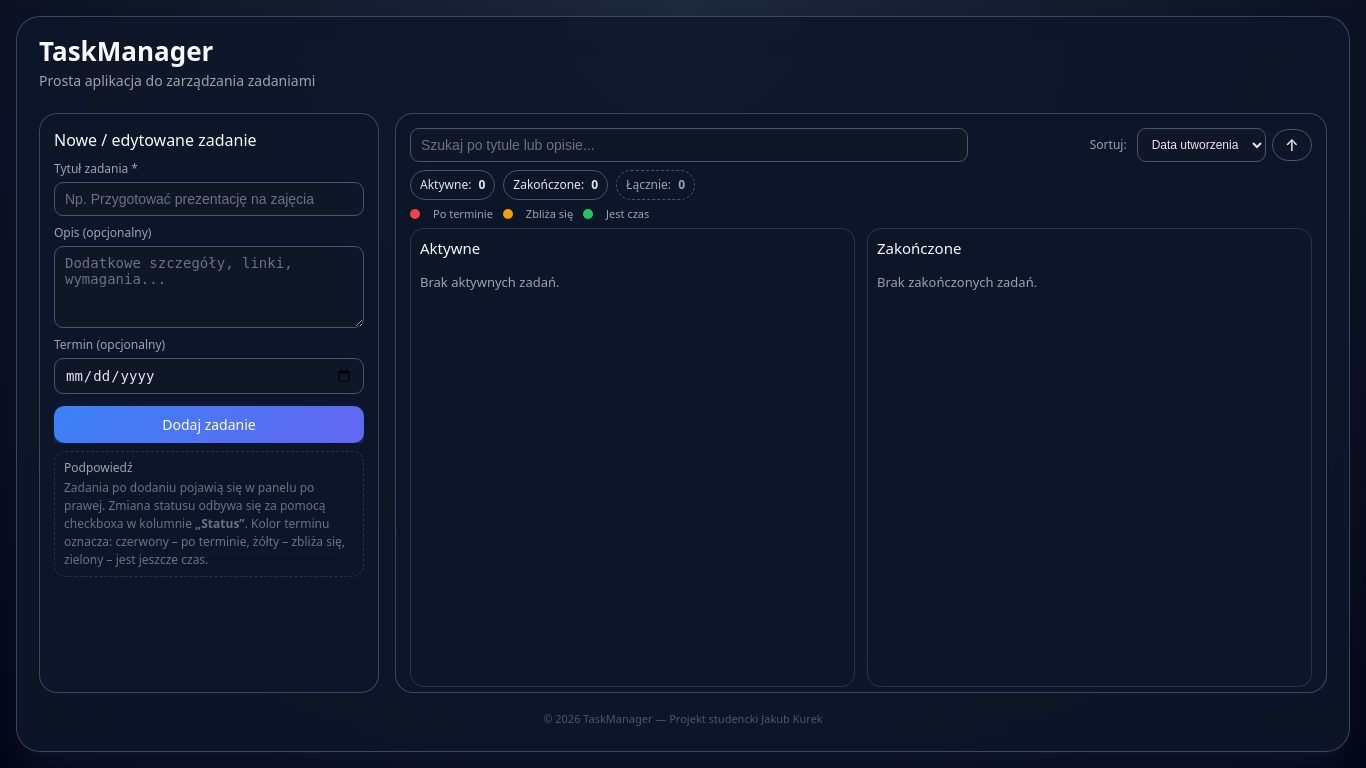
Scenario: Integration Tests: App Component › should remove task when delete button is clicked
Type "Do usunięcia" into the field with placeholder "Np. Przygotować prezentację na zajęcia" at {"x": 209, "y": 199}, box top-left (54, 182), bottom-right (364, 216)
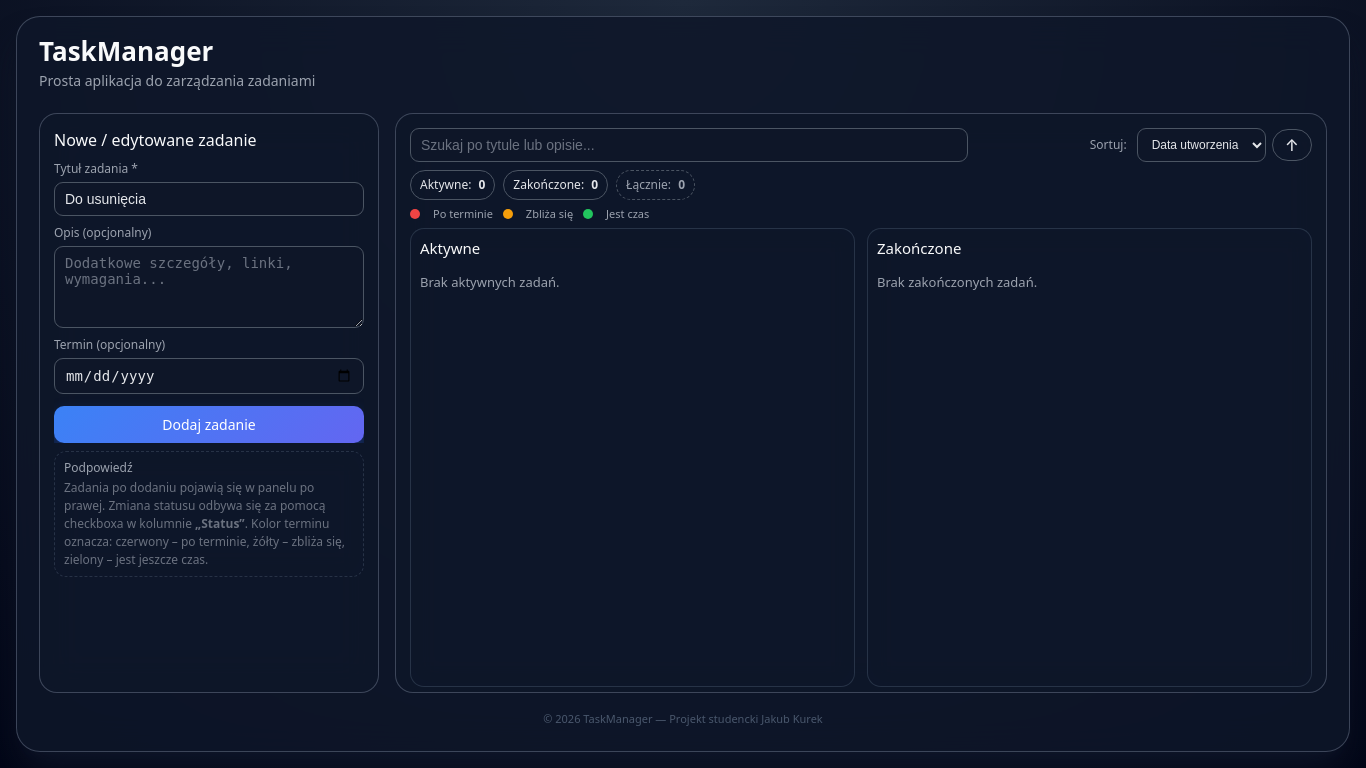
Click the button "Dodaj zadanie" at {"x": 209, "y": 424}, box top-left (54, 406), bottom-right (364, 443)
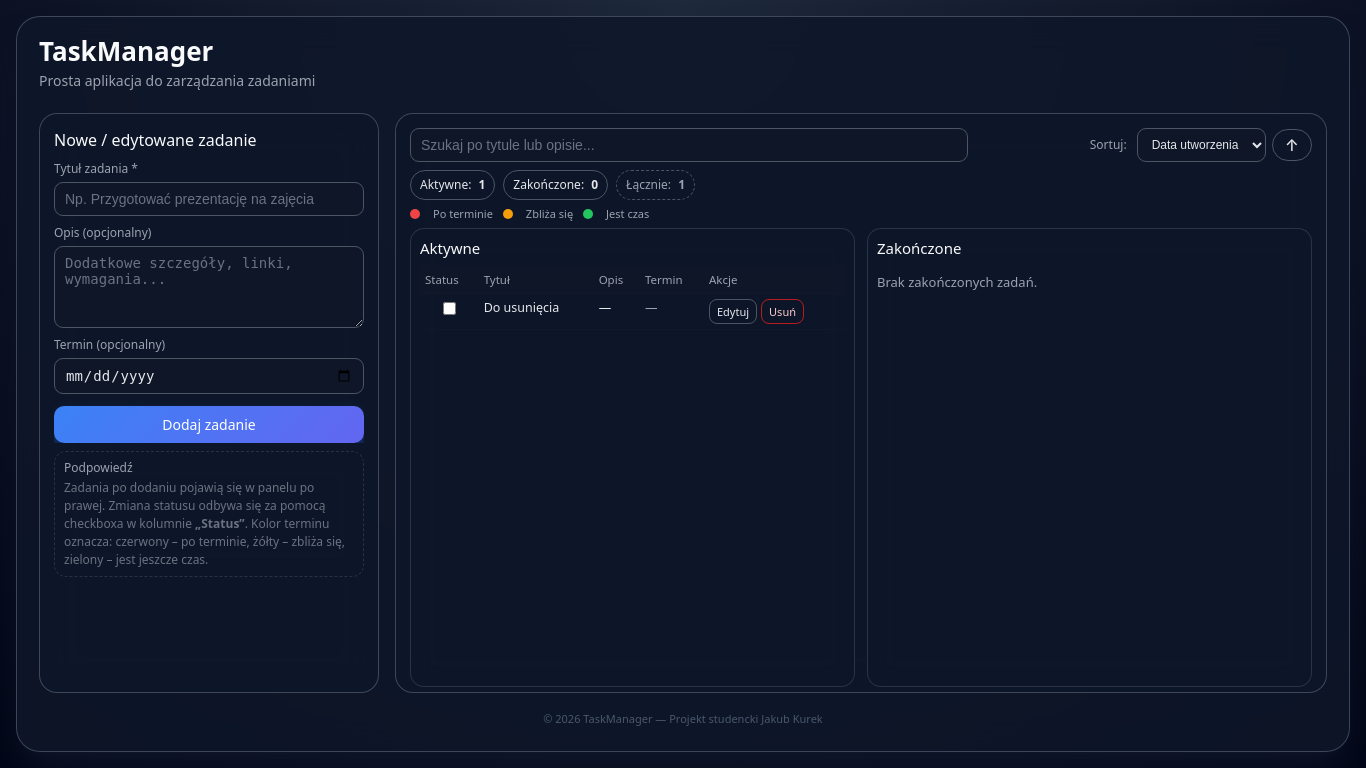
Click the button "Usuń" at {"x": 783, "y": 311}, box top-left (761, 299), bottom-right (804, 324)
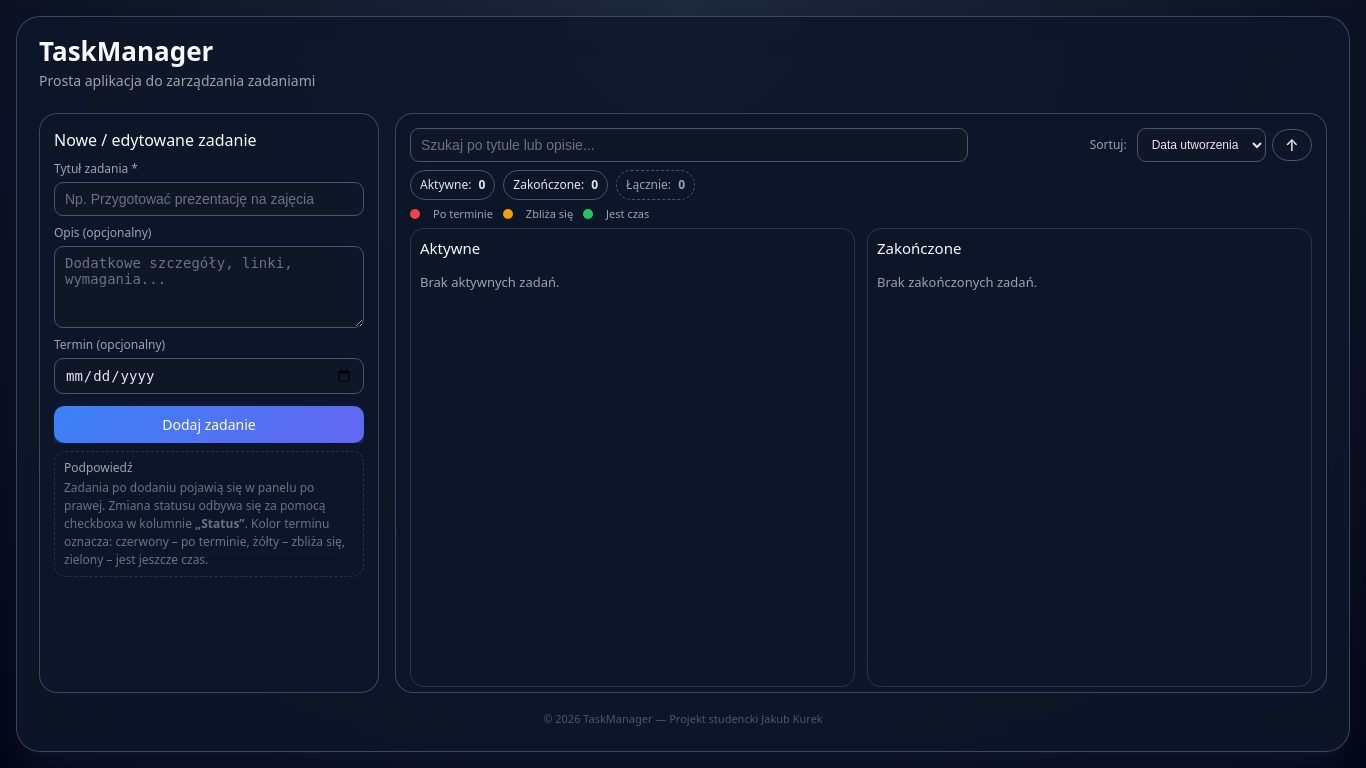
Check: the text "Do usunięcia" is gone
